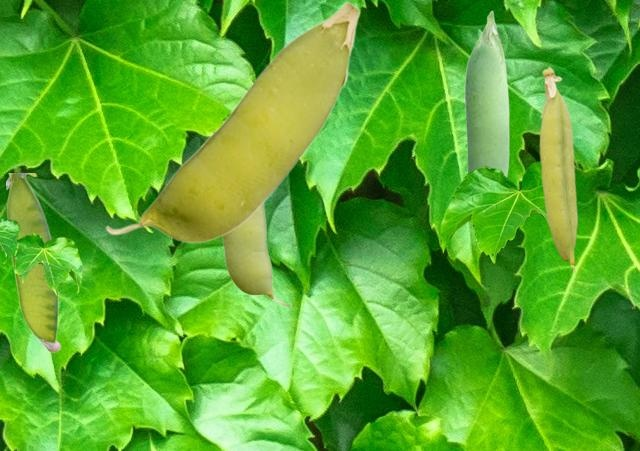pea: (105, 1, 359, 242), (6, 173, 60, 351), (539, 66, 577, 271), (464, 10, 508, 177), (221, 204, 290, 305)
